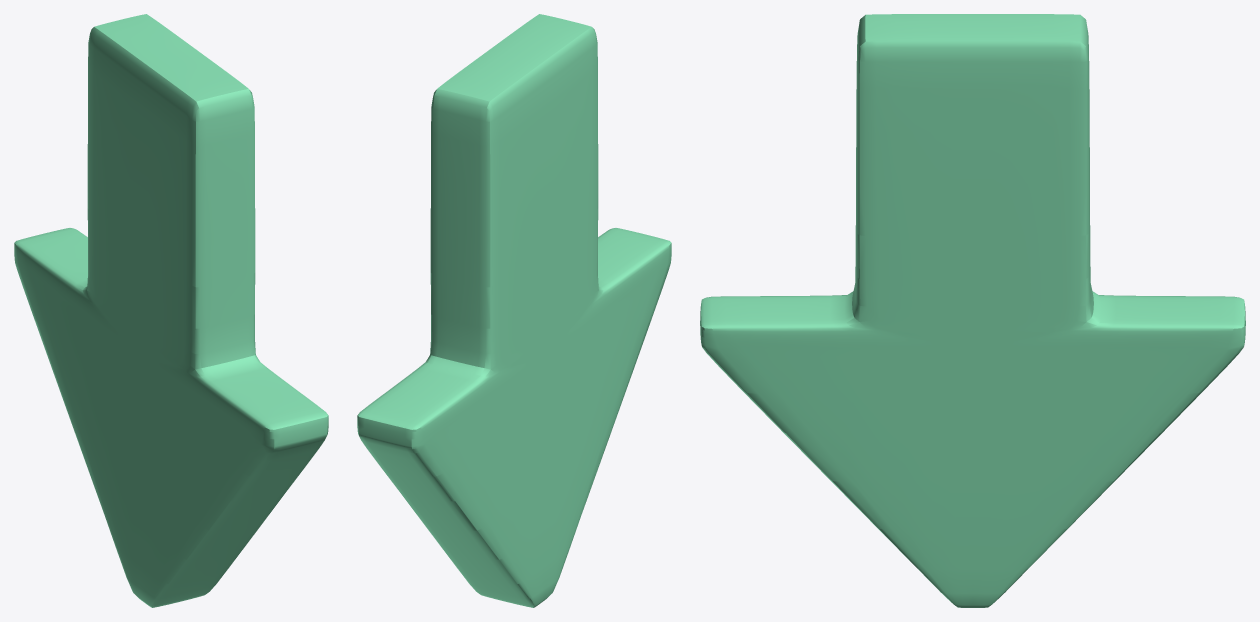
Rendered from arrow.gltf.
3 views of the same model, side by side, from view 1: azimuth 30°, elevation 25°; view 2: azimuth 150°, elevation 25°; view 3: azimuth 270°, elevation 25° (orthographic). The views are drawn at different scales.
Visible parts, largest first — view 1: Pin; view 2: Pin; view 3: Pin.
Boxes of the visible parts, x1=… form: Pin: x1=14, y1=14, x2=328, y2=607; Pin: x1=357, y1=14, x2=671, y2=607; Pin: x1=700, y1=14, x2=1245, y2=607.
Size of the model in its own units: 0.0124 by 0.1 by 0.0869.
